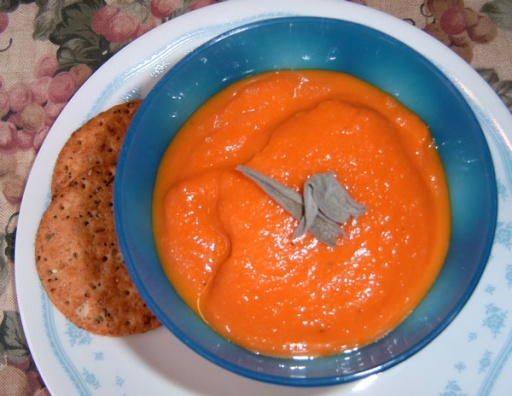background: (121, 42, 362, 220), (27, 61, 130, 208)
